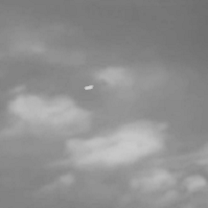Target: (83, 84, 95, 91)
